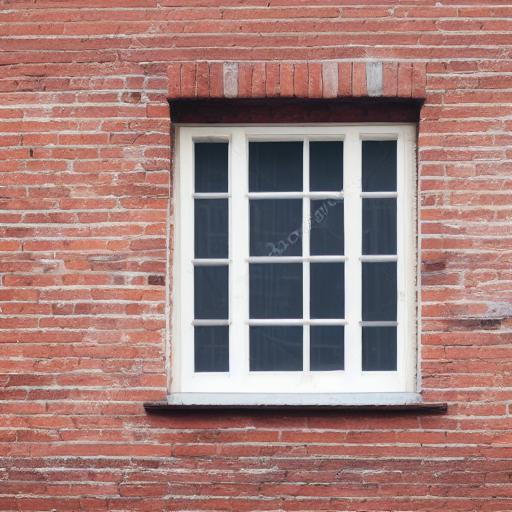Window: (149, 55, 450, 419)
